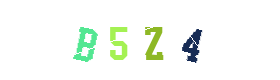4: (152, 0, 232, 80)
5: (96, 0, 176, 80)
B: (49, 0, 129, 80)
Z: (100, 0, 180, 80)
